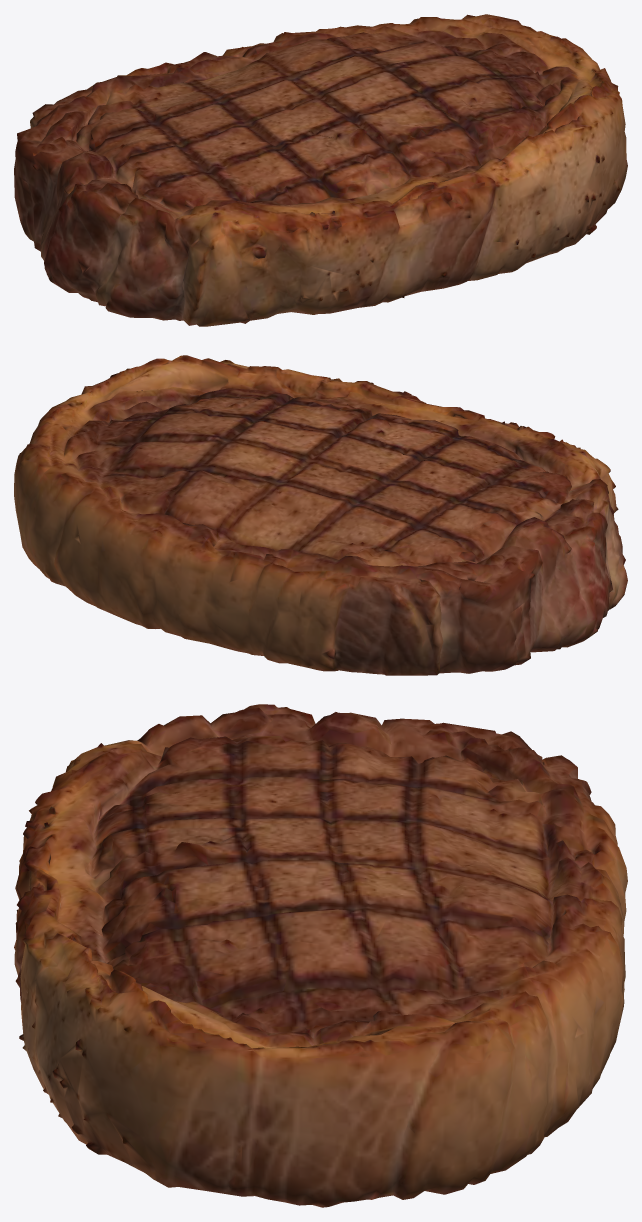
Rendered from food-steak-phone.glb.
The picture shows the model from 3 angles, top to bottom: view 1: azimuth 30°, elevation 25°; view 2: azimuth 150°, elevation 25°; view 3: azimuth 270°, elevation 25°; orthographic projection. The views are drawn at different scales.
Visible parts, largest first — view 1: Model; view 2: Model; view 3: Model.
Part boxes in pixels (left/top/right/bottom): Model: left=14, top=14, right=627, bottom=326; Model: left=14, top=355, right=627, bottom=675; Model: left=14, top=704, right=627, bottom=1207.
Size of the model in its own units: 1.9 by 0.4387 by 1.31.
1 material, 1 textured.
